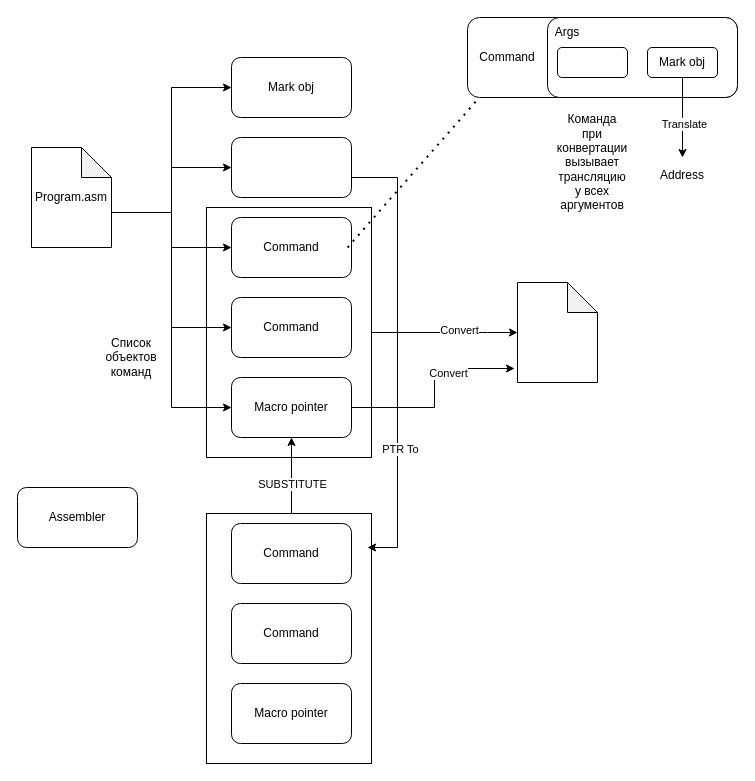
Some shapes in this 755 by 781 pixel diagram are drawn without their labels. The shapes that lost their labels are listed below. From the top down, each one's box as (x1, y1, x2, y2) in pixels, then its label:
(556, 46, 628, 78): Data
(230, 136, 352, 198): Macro obj
(516, 282, 598, 382): Program.bin
